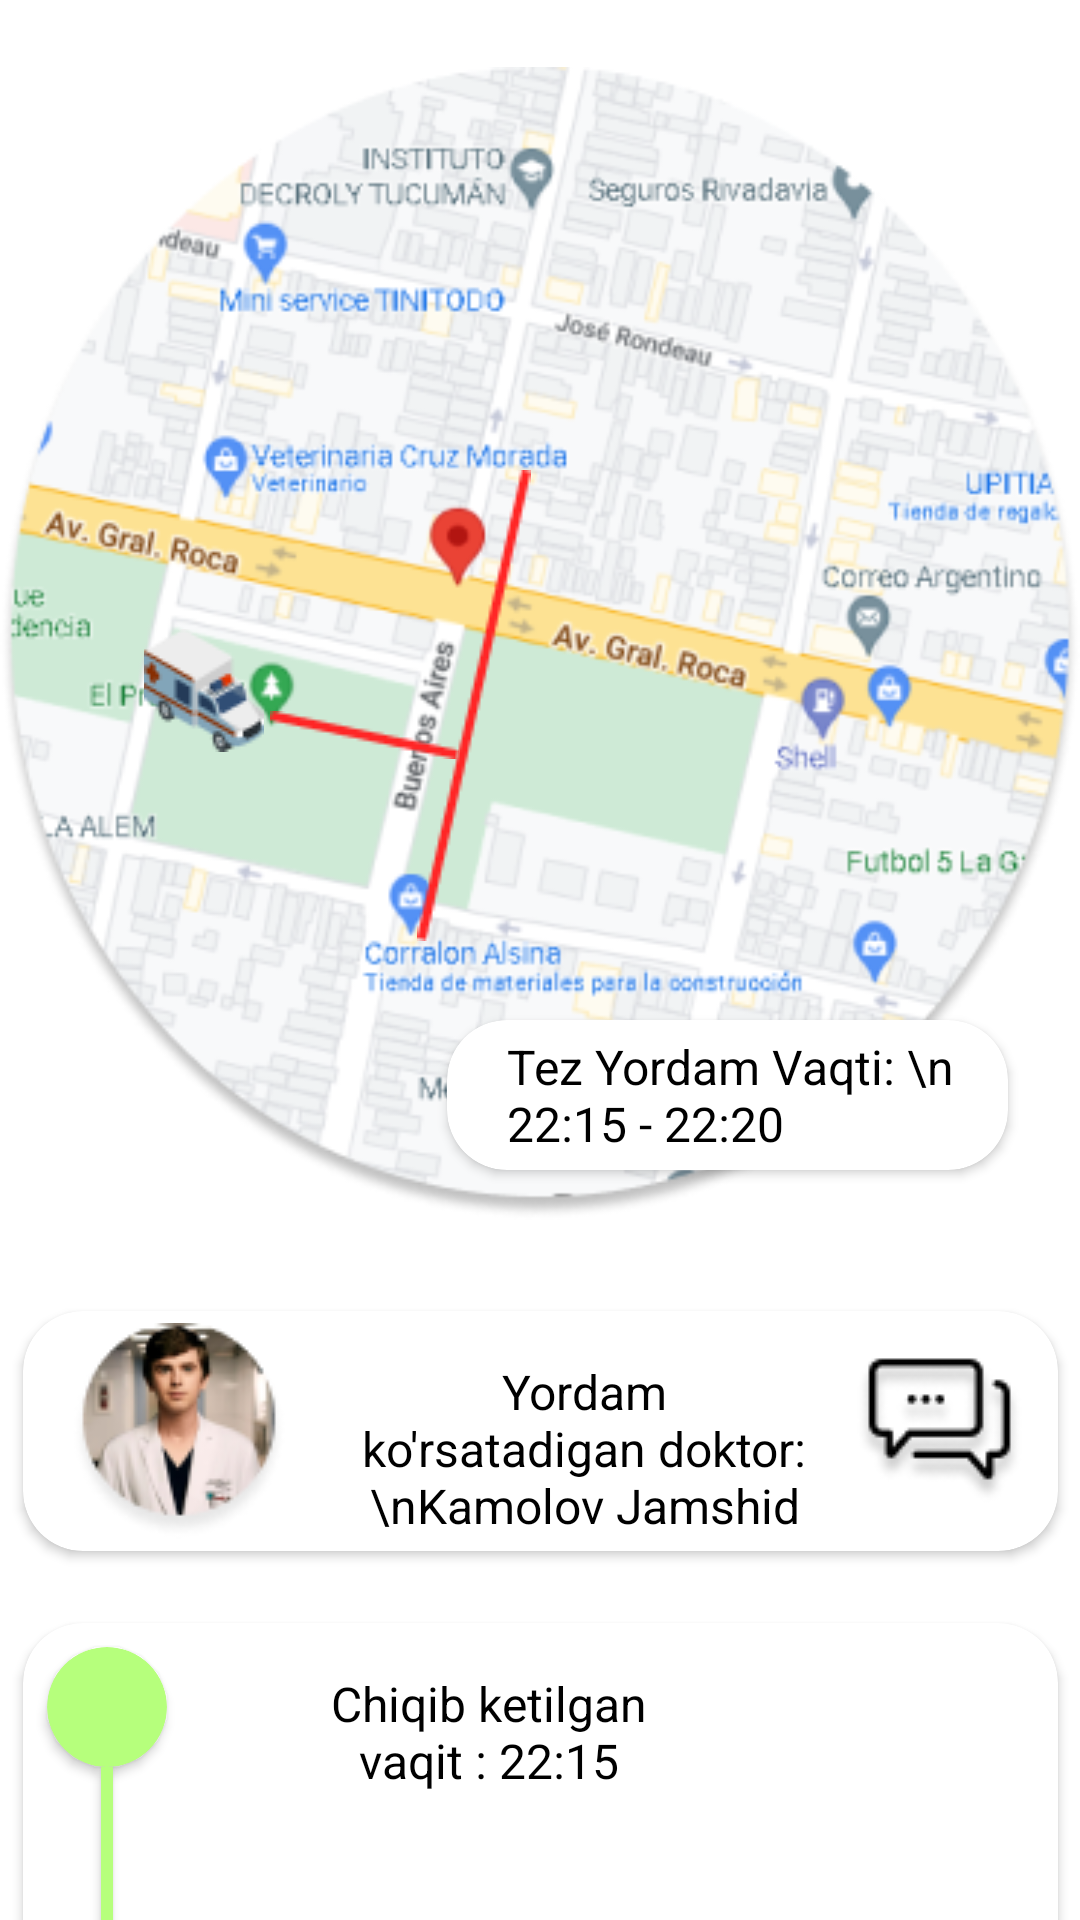

Point at icon controls on the screen. Image size 1080 × 1920, points as (x=x, y=y).
ambulance: (x=204, y=690)
